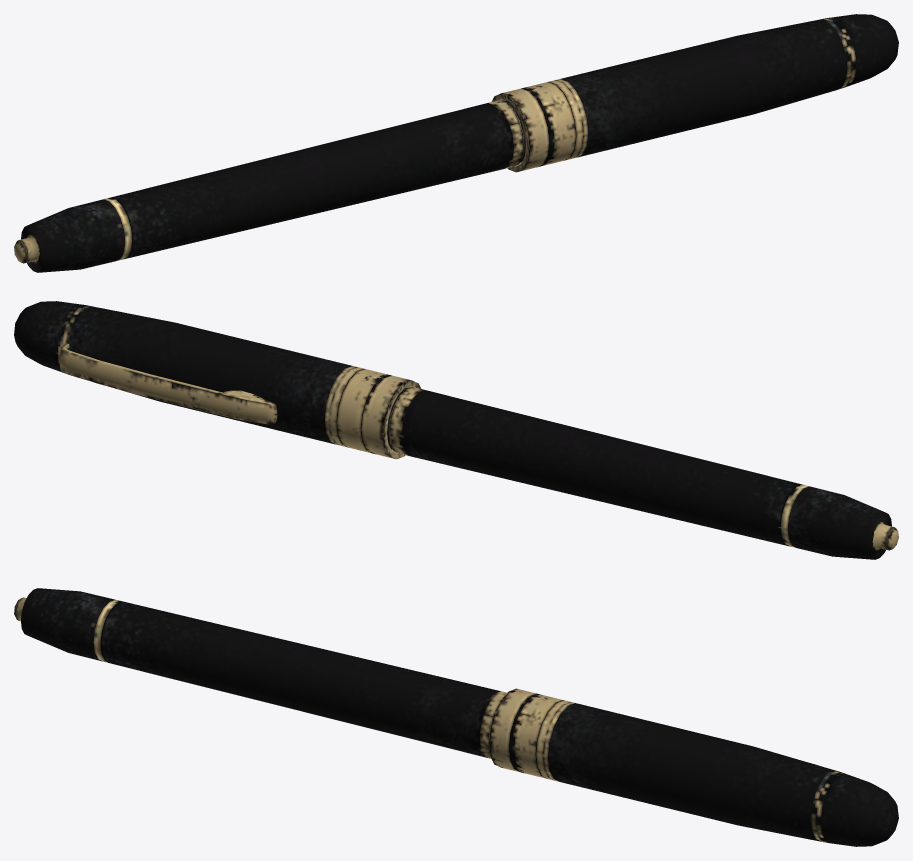
The model's file is 020_Cappen.fbx.
3 views of the same model, one above another, from view 1: azimuth 30°, elevation 25°; view 2: azimuth 150°, elevation 25°; view 3: azimuth 330°, elevation 25° (orthographic).
Visible parts, largest first — view 1: LOD_1_Group_0_Sub_1__sm36_020_CapPen01A_A_Mat, LOD_1_Group_1_Sub_1__sm36_020_CapPen01A_A_Mat; view 2: LOD_1_Group_0_Sub_1__sm36_020_CapPen01A_A_Mat, LOD_1_Group_1_Sub_1__sm36_020_CapPen01A_A_Mat; view 3: LOD_1_Group_1_Sub_1__sm36_020_CapPen01A_A_Mat, LOD_1_Group_0_Sub_1__sm36_020_CapPen01A_A_Mat.
Boxes of the visible parts, box(x1,y1,x2,y2) form: LOD_1_Group_0_Sub_1__sm36_020_CapPen01A_A_Mat: box(14, 100, 525, 272); LOD_1_Group_1_Sub_1__sm36_020_CapPen01A_A_Mat: box(491, 14, 898, 172); LOD_1_Group_0_Sub_1__sm36_020_CapPen01A_A_Mat: box(387, 387, 898, 559); LOD_1_Group_1_Sub_1__sm36_020_CapPen01A_A_Mat: box(14, 301, 421, 459); LOD_1_Group_1_Sub_1__sm36_020_CapPen01A_A_Mat: box(488, 688, 898, 846); LOD_1_Group_0_Sub_1__sm36_020_CapPen01A_A_Mat: box(14, 588, 506, 758).
Bounding box in the file's own units: 0.1438 × 0.0115 × 0.0147.
